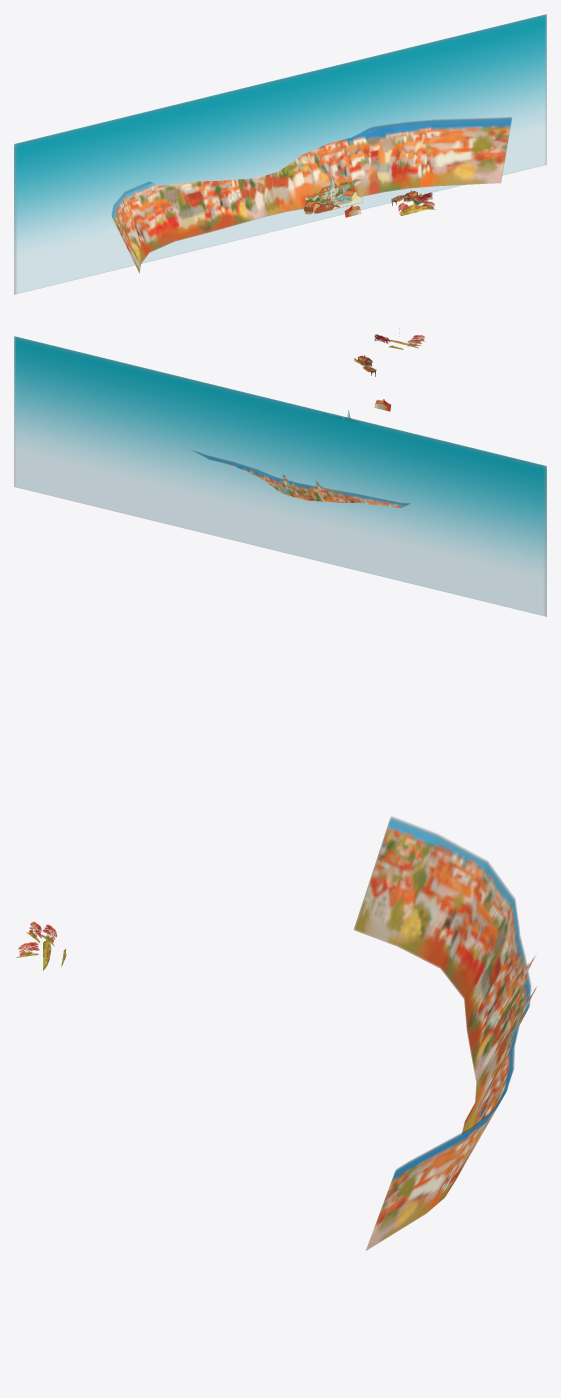
File: sub_scene_left.glb
The picture shows the model from 3 angles, top to bottom: view 1: azimuth 30°, elevation 25°; view 2: azimuth 150°, elevation 25°; view 3: azimuth 270°, elevation 25°; orthographic projection. The views are drawn at different scales.
Visible parts, largest first — view 1: 背景衬布, 建筑, 市集; view 2: 背景衬布, 建筑; view 3: 建筑.
Boxes of the visible parts, bbox=[...] form: 背景衬布: bbox=[14, 14, 546, 294]; 建筑: bbox=[111, 117, 511, 272]; 市集: bbox=[304, 176, 362, 214]; 背景衬布: bbox=[14, 336, 546, 616]; 建筑: bbox=[192, 450, 410, 507]; 建筑: bbox=[354, 817, 536, 1250].
Size of the model in its own units: 30.88 by 8.35 by 14.88.
Materials: 1 (1 with a texture image).
